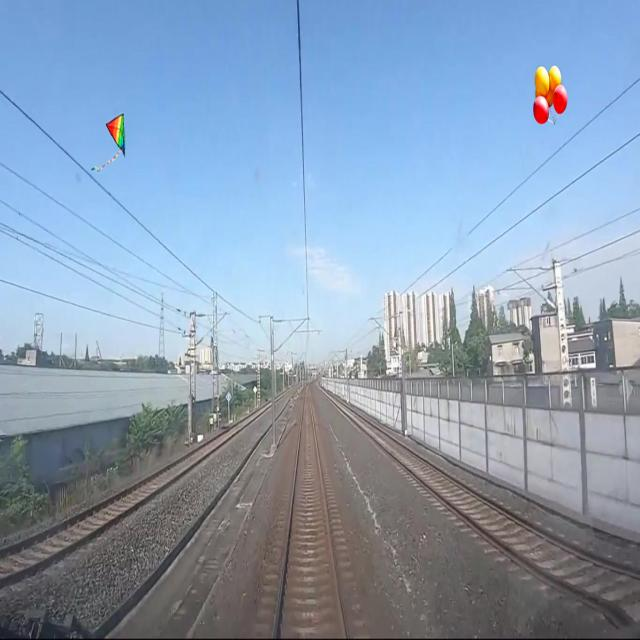balloon: (532, 61, 567, 123)
floating object: (88, 111, 125, 172)
